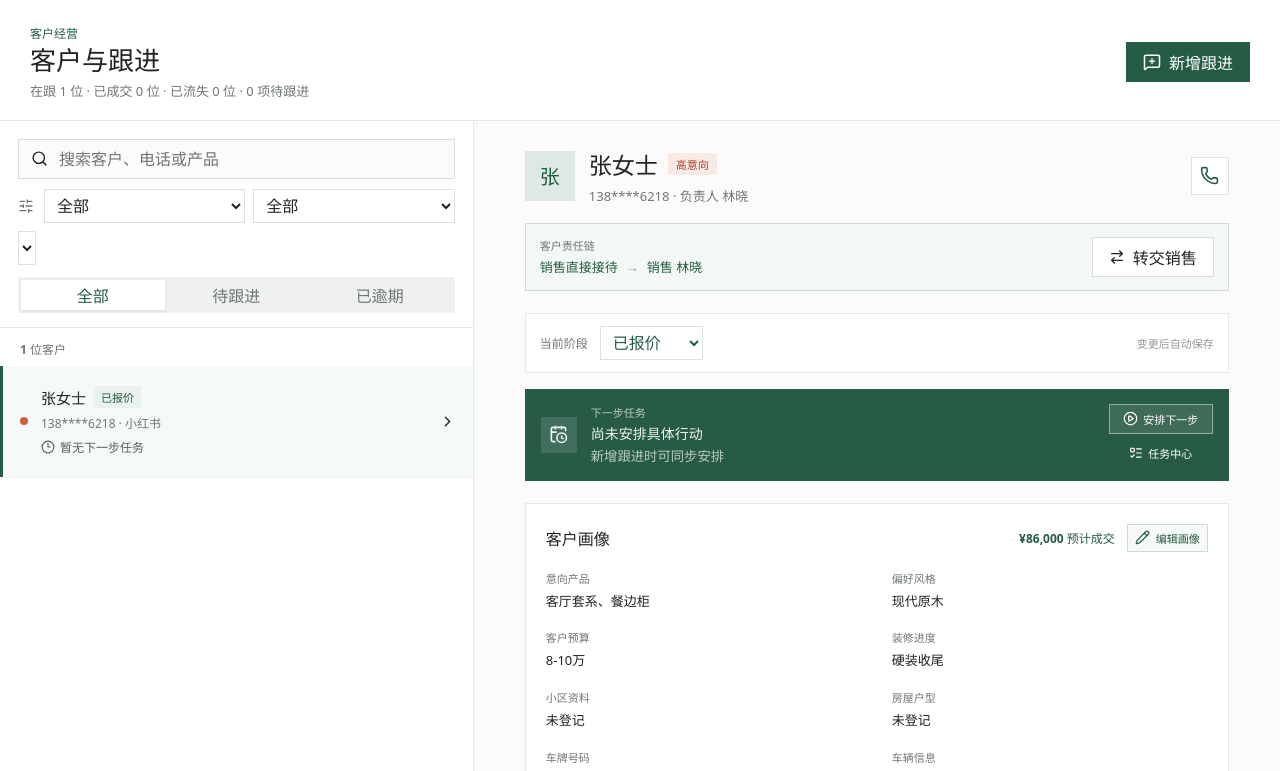
CustomersPage design collaboration › opens scheduling when the customer has no next task
Click the button "安排下一步" at [1161, 418], box [1109,404,1213,434]
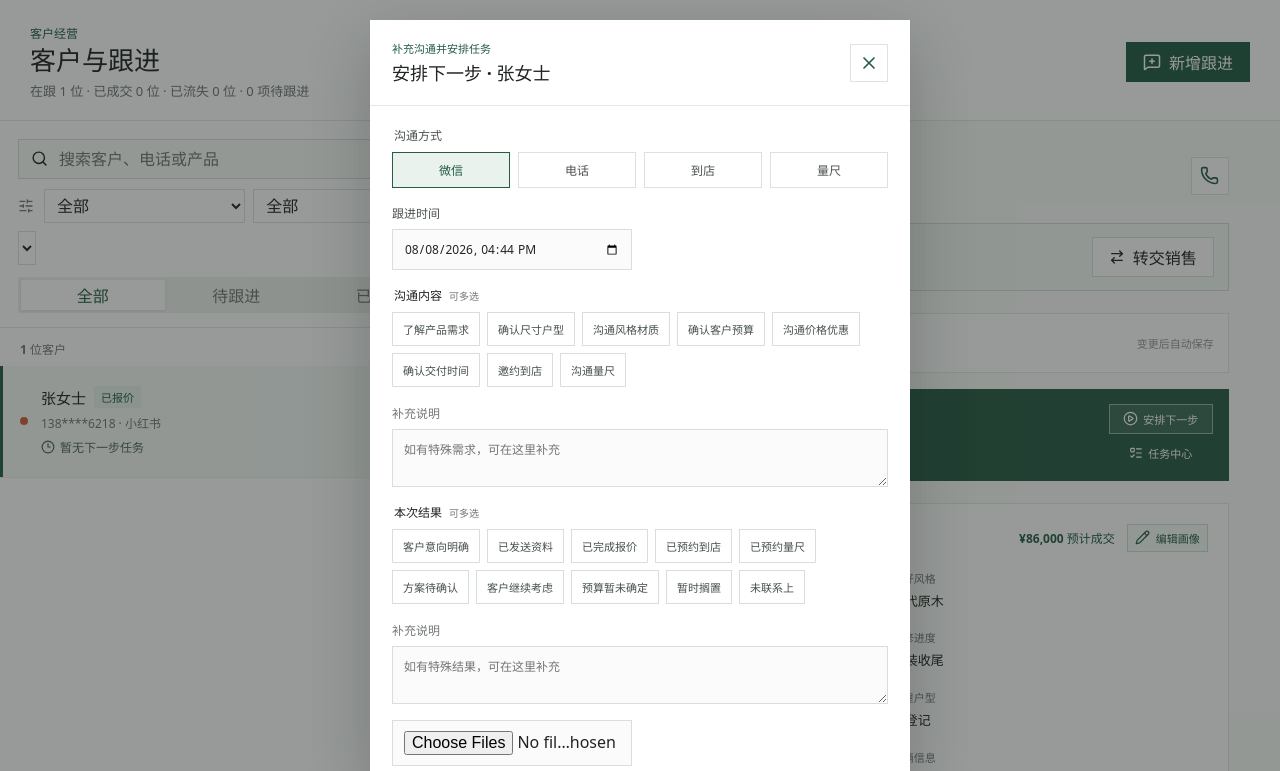
Now the heading "安排下一步 · 张女士" is shown, box [392,59,550,85]
